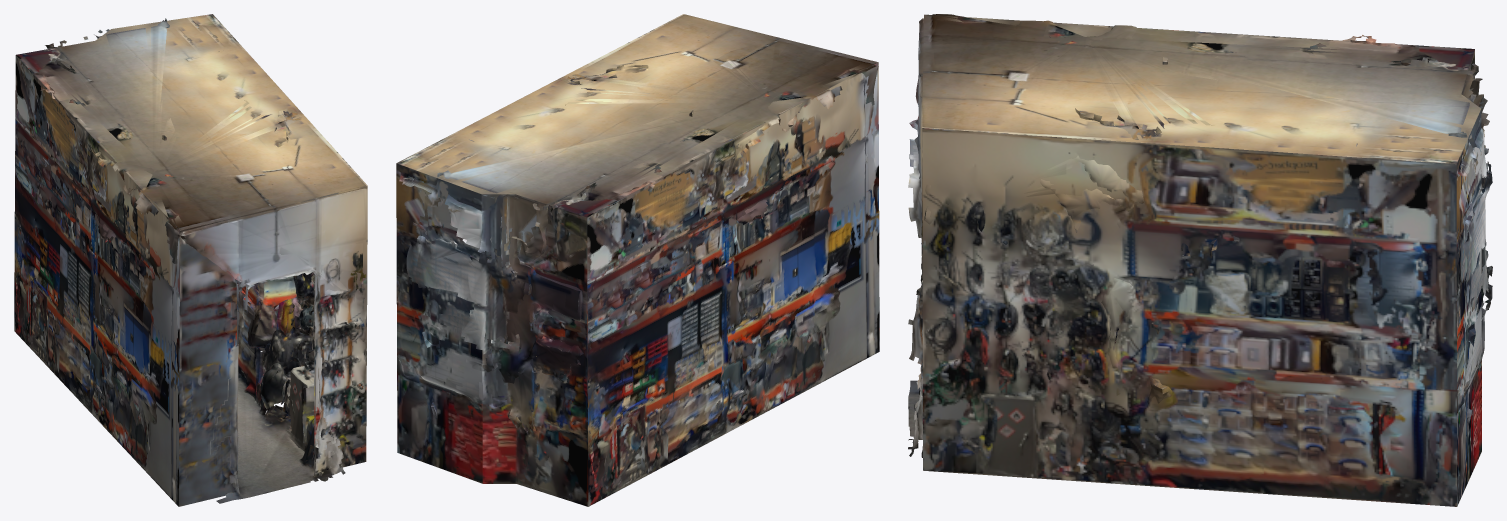
3 views of the same model, side by side, from view 1: azimuth 30°, elevation 25°; view 2: azimuth 150°, elevation 25°; view 3: azimuth 270°, elevation 25° (orthographic). The views are drawn at different scales.
Visible parts, largest first — view 1: M114-IM; view 2: M114-IM; view 3: M114-IM.
Part boxes in pixels (x1,y1,x2,y2): M114-IM: (14, 14, 367, 506); M114-IM: (396, 14, 879, 506); M114-IM: (908, 14, 1492, 506).
Size of the model in its own units: 298 by 337 by 488.
